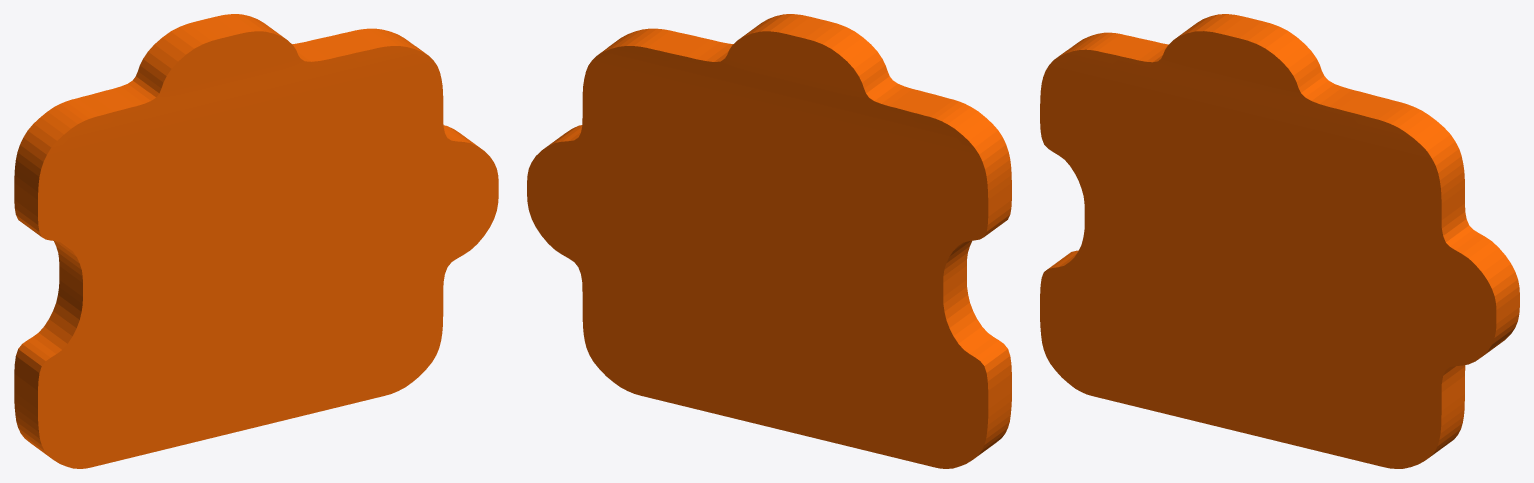
3 renders of one model, left to right at view 1: azimuth 30°, elevation 25°; view 2: azimuth 150°, elevation 25°; view 3: azimuth 330°, elevation 25°, orthographic.
Visible parts, largest first — view 1: puzzle; view 2: puzzle; view 3: puzzle.
Boxes of the visible parts, x1=… form: puzzle: x1=14, y1=14, x2=498, y2=468; puzzle: x1=527, y1=14, x2=1011, y2=468; puzzle: x1=1040, y1=14, x2=1519, y2=468.
Size of the model in its own units: 5.67 by 4.67 by 0.5099.
